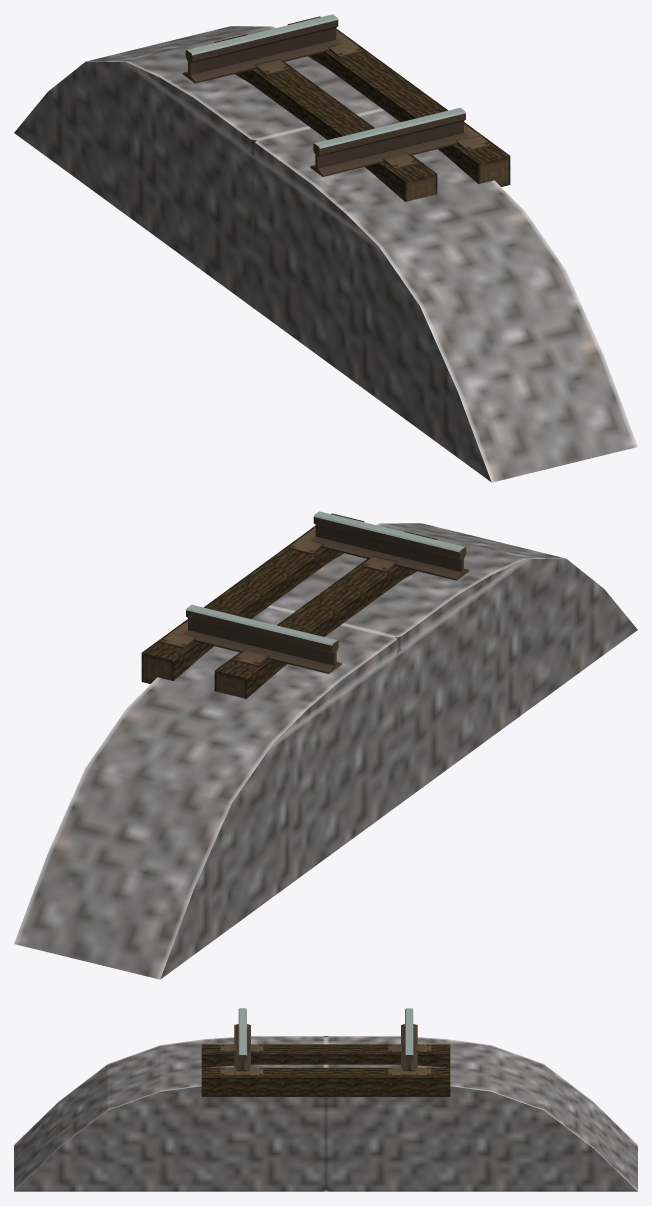
The model's file is spsf_tracks_ballast2.obj.
The picture shows the model from 3 angles, top to bottom: view 1: azimuth 30°, elevation 25°; view 2: azimuth 150°, elevation 25°; view 3: azimuth 270°, elevation 25°; orthographic projection. The views are drawn at different scales.
Parts seen in each view (by area): view 1: RAIL_BASE_Cube.001, RAIL_BASE.002_RAIL_BASE.007, RAIL_RIGHT_Cube.010, RAIL_LEFT_Cube.002, RAIL_BASE.003_Cube.003; view 2: RAIL_BASE_Cube.001, RAIL_BASE.002_RAIL_BASE.007, RAIL_LEFT_Cube.002, RAIL_RIGHT_Cube.010, RAIL_BASE.003_Cube.003; view 3: RAIL_BASE_Cube.001, RAIL_BASE.002_RAIL_BASE.007, RAIL_BASE.003_Cube.003, RAIL_LEFT_Cube.002, RAIL_RIGHT_Cube.010.
Boxes of the visible parts, left/top/right/bottom form: RAIL_BASE_Cube.001: left=14, top=26, right=637, bottom=482; RAIL_BASE.002_RAIL_BASE.007: left=214, top=16, right=510, bottom=201; RAIL_RIGHT_Cube.010: left=182, top=14, right=339, bottom=83; RAIL_LEFT_Cube.002: left=310, top=107, right=466, bottom=176; RAIL_BASE.003_Cube.003: left=255, top=31, right=491, bottom=169; RAIL_BASE_Cube.001: left=14, top=523, right=637, bottom=979; RAIL_BASE.002_RAIL_BASE.007: left=141, top=513, right=437, bottom=698; RAIL_LEFT_Cube.002: left=312, top=511, right=469, bottom=580; RAIL_RIGHT_Cube.010: left=185, top=604, right=341, bottom=673; RAIL_BASE.003_Cube.003: left=160, top=528, right=396, bottom=666; RAIL_BASE_Cube.001: left=14, top=1036, right=637, bottom=1191; RAIL_BASE.002_RAIL_BASE.007: left=201, top=1044, right=450, bottom=1096; RAIL_BASE.003_Cube.003: left=220, top=1044, right=431, bottom=1076; RAIL_LEFT_Cube.002: left=234, top=1008, right=250, bottom=1070; RAIL_RIGHT_Cube.010: left=401, top=1008, right=417, bottom=1070.
Size of the model in its own units: 1.11 by 1.37 by 5.66.
Materials: 1 (1 with a texture image).
